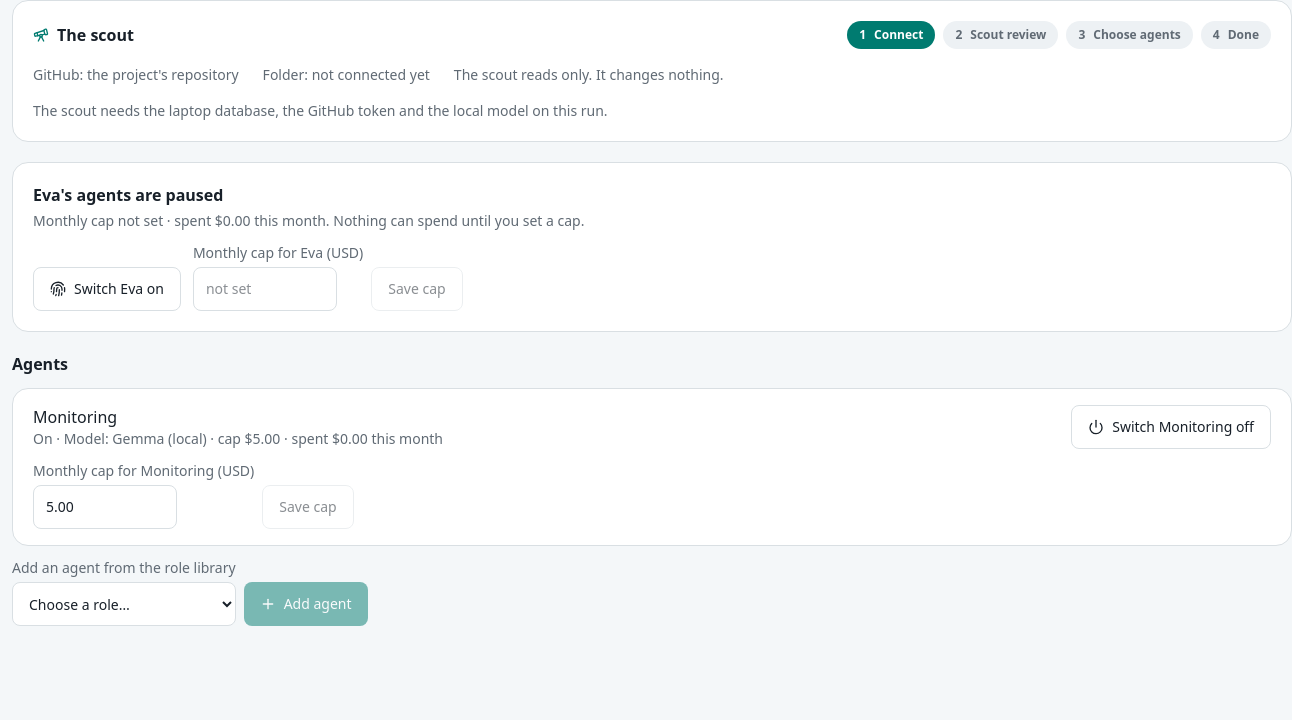
Test: the Agents tab › switching off never asks for Windows Hello
The image size is (1292, 720).
Click the button "Switch Monitoring off". click: point(1171, 427)
box: [1071,405,1271,449]
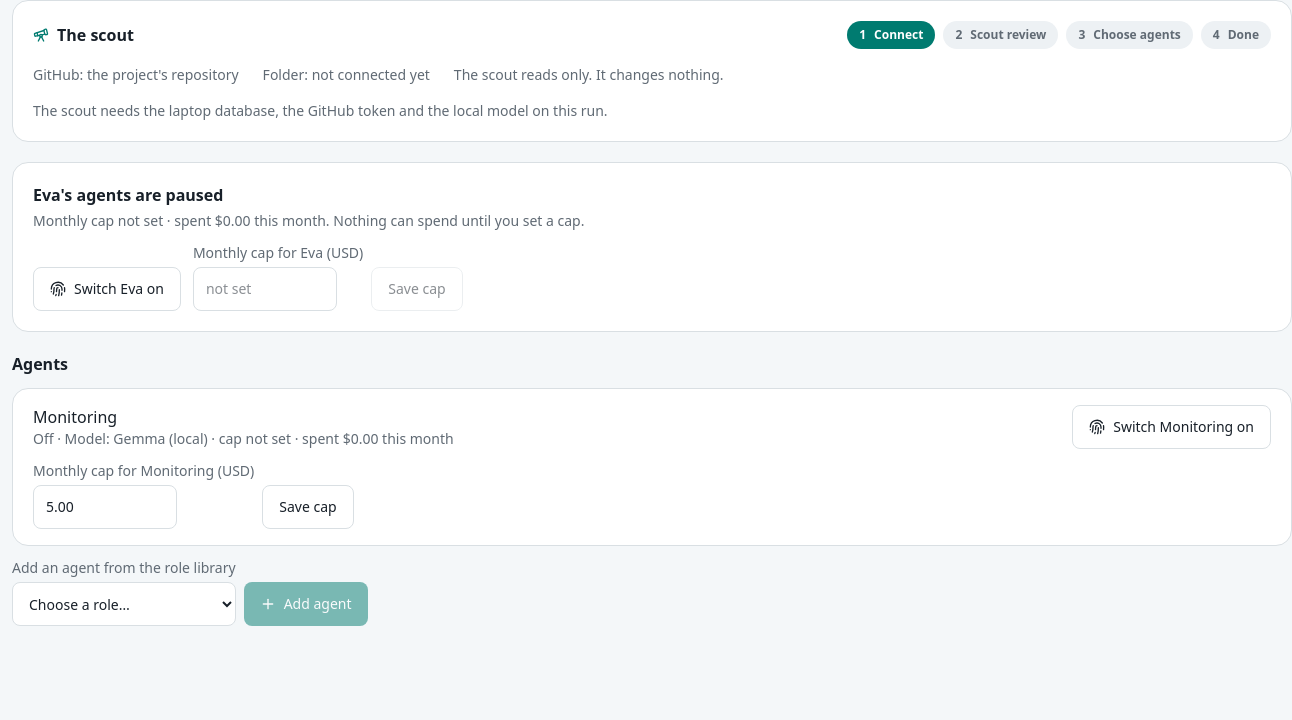
expect the button "Switch Monitoring on" is shown: met, box [1072,405,1271,449]
